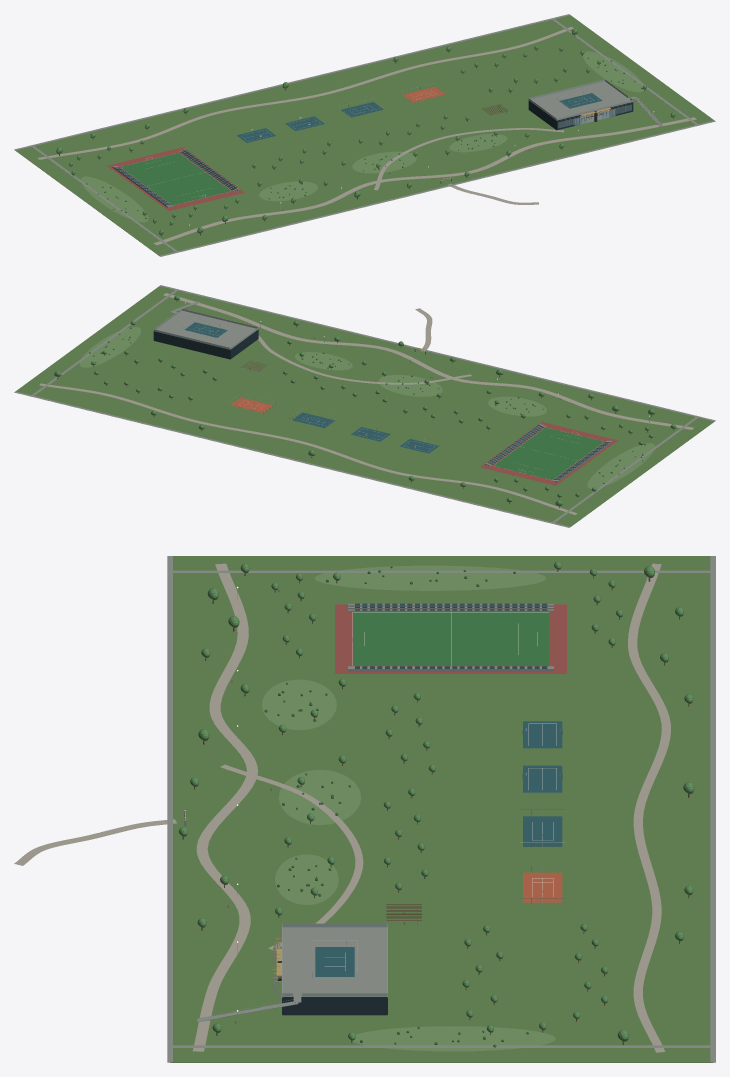
Rendered from commons.glb.
The picture shows the model from 3 angles, top to bottom: view 1: azimuth 30°, elevation 25°; view 2: azimuth 150°, elevation 25°; view 3: azimuth 270°, elevation 25°; orthographic projection. The views are drawn at different scales.
Visible parts, largest first — view 1: GC-CRESCENT-COMMONS-001-lawn, GC-CRESCENT-COMMONS-001-stone, GC-CRESCENT-COMMONS-001-meadow, GC-CRESCENT-COMMONS-001-path, GC-CRESCENT-COMMONS-001-green, GC-CRESCENT-COMMONS-001-foliage, GC-CRESCENT-COMMONS-001-court, GC-CRESCENT-COMMONS-001-track, GC-CRESCENT-COMMONS-001-dark, GC-CRESCENT-COMMONS-001-steel, GC-CRESCENT-COMMONS-001-seat, GC-CRESCENT-COMMONS-001-glass; view 2: GC-CRESCENT-COMMONS-001-lawn, GC-CRESCENT-COMMONS-001-stone, GC-CRESCENT-COMMONS-001-meadow, GC-CRESCENT-COMMONS-001-path, GC-CRESCENT-COMMONS-001-green, GC-CRESCENT-COMMONS-001-foliage, GC-CRESCENT-COMMONS-001-court, GC-CRESCENT-COMMONS-001-track, GC-CRESCENT-COMMONS-001-dark, GC-CRESCENT-COMMONS-001-steel, GC-CRESCENT-COMMONS-001-seat; view 3: GC-CRESCENT-COMMONS-001-lawn, GC-CRESCENT-COMMONS-001-stone, GC-CRESCENT-COMMONS-001-meadow, GC-CRESCENT-COMMONS-001-path, GC-CRESCENT-COMMONS-001-green, GC-CRESCENT-COMMONS-001-court, GC-CRESCENT-COMMONS-001-foliage, GC-CRESCENT-COMMONS-001-track, GC-CRESCENT-COMMONS-001-dark, GC-CRESCENT-COMMONS-001-steel, GC-CRESCENT-COMMONS-001-seat, GC-CRESCENT-COMMONS-001-clay (+2 smaller).
Part boxes in pixels (x1=…): GC-CRESCENT-COMMONS-001-lawn: x1=15, y1=15, x2=713, y2=255; GC-CRESCENT-COMMONS-001-stone: x1=14, y1=14, x2=715, y2=256; GC-CRESCENT-COMMONS-001-meadow: x1=80, y1=51, x2=643, y2=222; GC-CRESCENT-COMMONS-001-path: x1=38, y1=27, x2=696, y2=245; GC-CRESCENT-COMMONS-001-green: x1=120, y1=153, x2=231, y2=205; GC-CRESCENT-COMMONS-001-foliage: x1=56, y1=28, x2=675, y2=234; GC-CRESCENT-COMMONS-001-court: x1=237, y1=93, x2=602, y2=142; GC-CRESCENT-COMMONS-001-track: x1=107, y1=147, x2=244, y2=210; GC-CRESCENT-COMMONS-001-dark: x1=528, y1=100, x2=633, y2=130; GC-CRESCENT-COMMONS-001-steel: x1=251, y1=79, x2=662, y2=208; GC-CRESCENT-COMMONS-001-seat: x1=114, y1=112, x2=607, y2=205; GC-CRESCENT-COMMONS-001-glass: x1=558, y1=104, x2=631, y2=127; GC-CRESCENT-COMMONS-001-lawn: x1=16, y1=286, x2=714, y2=526; GC-CRESCENT-COMMONS-001-stone: x1=14, y1=285, x2=715, y2=527; GC-CRESCENT-COMMONS-001-meadow: x1=79, y1=327, x2=655, y2=488; GC-CRESCENT-COMMONS-001-path: x1=39, y1=293, x2=693, y2=514; GC-CRESCENT-COMMONS-001-green: x1=493, y1=427, x2=604, y2=479; GC-CRESCENT-COMMONS-001-foliage: x1=54, y1=295, x2=676, y2=505; GC-CRESCENT-COMMONS-001-court: x1=184, y1=322, x2=438, y2=453; GC-CRESCENT-COMMONS-001-track: x1=480, y1=422, x2=617, y2=485; GC-CRESCENT-COMMONS-001-dark: x1=153, y1=329, x2=258, y2=359; GC-CRESCENT-COMMONS-001-steel: x1=154, y1=303, x2=649, y2=449; GC-CRESCENT-COMMONS-001-seat: x1=487, y1=425, x2=610, y2=479; GC-CRESCENT-COMMONS-001-lawn: x1=170, y1=556, x2=712, y2=1062; GC-CRESCENT-COMMONS-001-stone: x1=167, y1=556, x2=715, y2=1062; GC-CRESCENT-COMMONS-001-meadow: x1=262, y1=565, x2=555, y2=1051; GC-CRESCENT-COMMONS-001-path: x1=14, y1=563, x2=670, y2=1052; GC-CRESCENT-COMMONS-001-green: x1=353, y1=612, x2=549, y2=665; GC-CRESCENT-COMMONS-001-court: x1=315, y1=721, x2=562, y2=976; GC-CRESCENT-COMMONS-001-foliage: x1=179, y1=561, x2=694, y2=1041; GC-CRESCENT-COMMONS-001-track: x1=335, y1=604, x2=566, y2=673; GC-CRESCENT-COMMONS-001-dark: x1=277, y1=961, x2=387, y2=1015; GC-CRESCENT-COMMONS-001-steel: x1=199, y1=588, x2=564, y2=1022; GC-CRESCENT-COMMONS-001-seat: x1=355, y1=603, x2=547, y2=668; GC-CRESCENT-COMMONS-001-clay: x1=523, y1=872, x2=562, y2=902.
Bounding box in the file's own units: 640 × 14.47 × 375.
